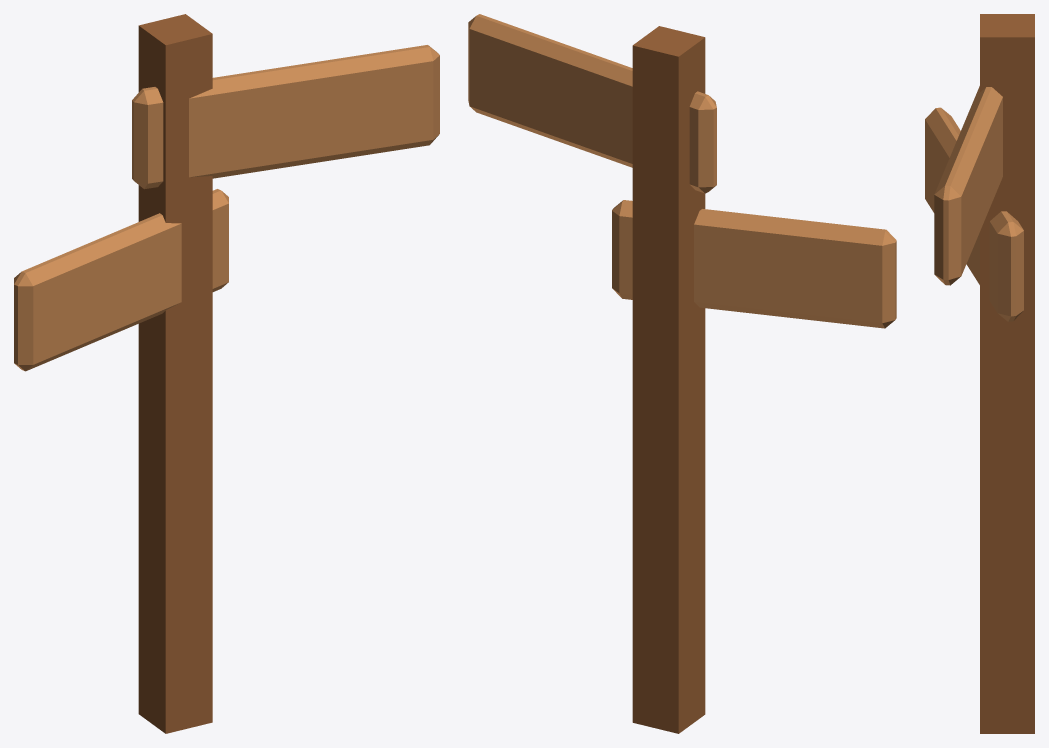
Rendered from signpost.glb.
The picture shows the model from 3 angles, left to right: view 1: azimuth 30°, elevation 25°; view 2: azimuth 150°, elevation 25°; view 3: azimuth 270°, elevation 25°; orthographic projection. The views are drawn at different scales.
Visible parts, largest first — view 1: signpost; view 2: signpost; view 3: signpost.
Part boxes in pixels (x1,y1,x2,y2): signpost: (14,14,439,733); signpost: (468,14,896,733); signpost: (925,14,1034,733).
Bounding box in the file's own units: 0.9132 × 1.4 × 0.2001.
